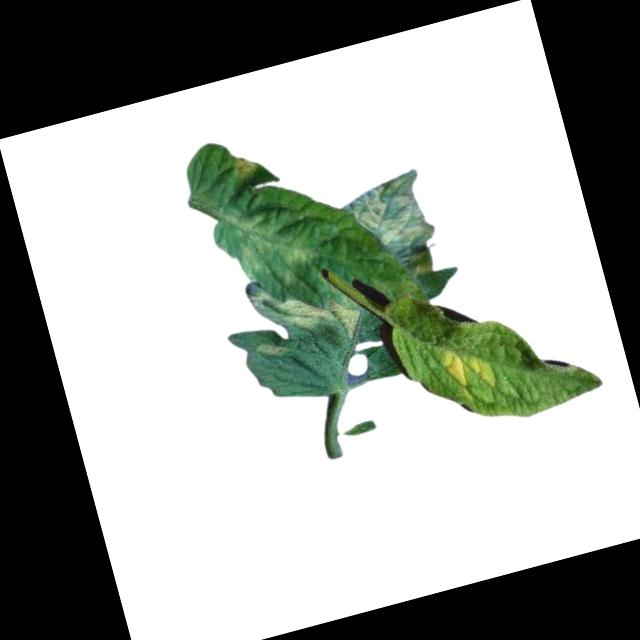Leaf_Mold: (255, 273, 366, 362), (349, 168, 438, 257), (234, 197, 326, 282), (438, 337, 498, 400), (228, 147, 260, 180), (254, 338, 285, 362)
